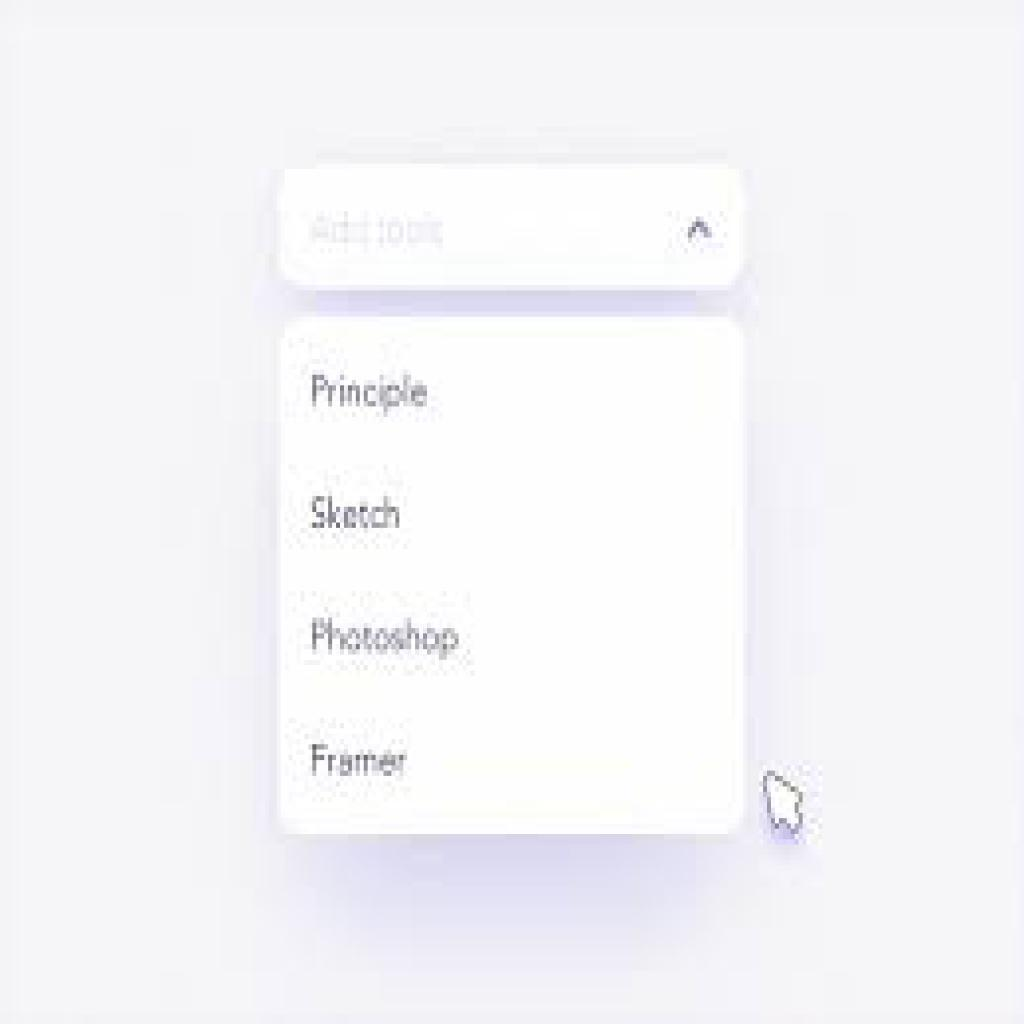dropdown: (281, 163, 750, 290)
